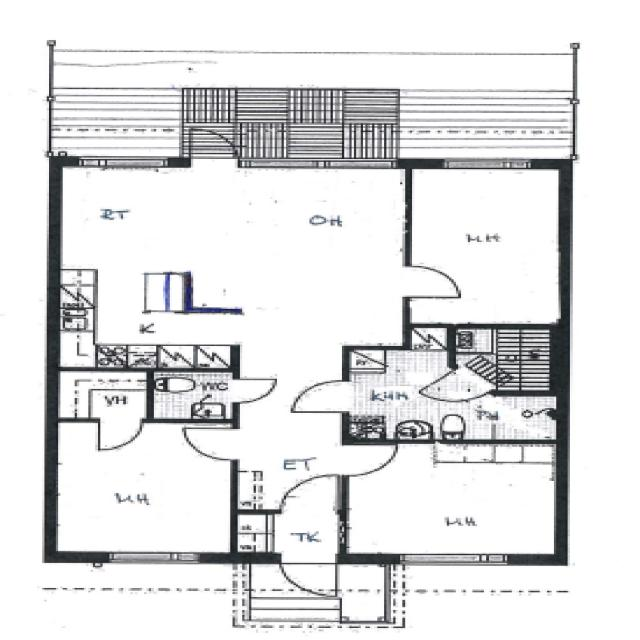door: (50, 414, 230, 553), (150, 369, 244, 421), (394, 258, 468, 304), (173, 420, 243, 465), (287, 377, 360, 417), (274, 555, 340, 599), (274, 473, 344, 514), (181, 122, 237, 168), (341, 440, 402, 478), (91, 416, 146, 455), (219, 372, 281, 406)
window: (390, 550, 520, 570), (432, 154, 540, 176), (96, 548, 206, 569), (72, 151, 176, 173)
zone: (44, 168, 419, 278), (406, 162, 566, 327), (343, 441, 562, 558), (50, 419, 234, 555), (345, 347, 551, 442), (49, 261, 230, 367), (450, 326, 559, 390), (50, 369, 152, 419), (147, 368, 239, 422)
